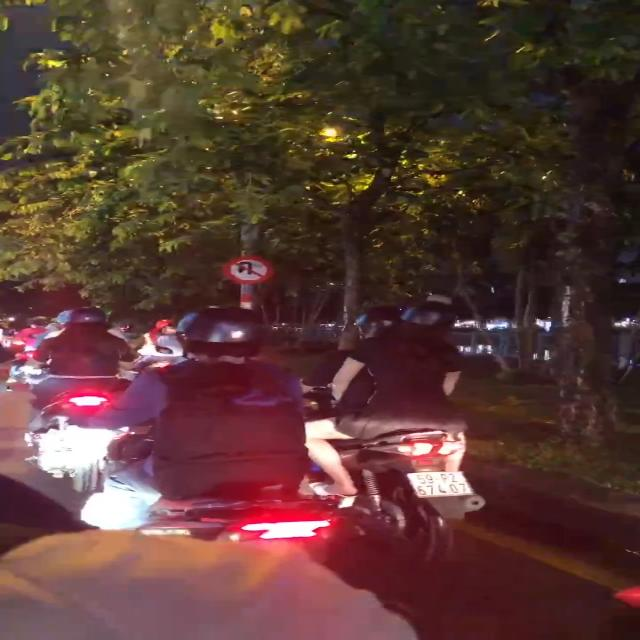Bien bao cam quay dau xe: (224, 254, 278, 286)
